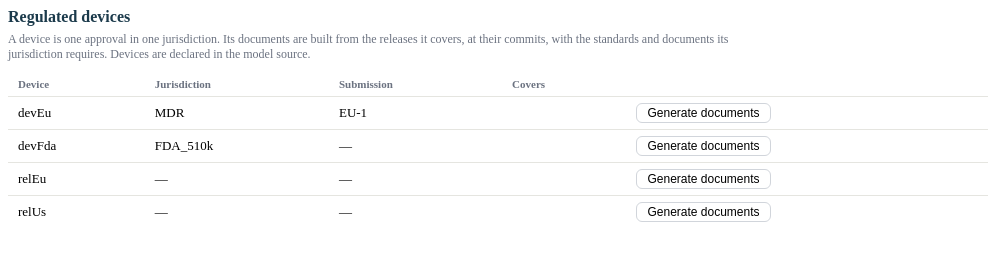
Test case: regulated devices › generates a device's documents and says what was written, or why not
What coordinates should you click on to do the following:
click the button with test id "generate-devEu"
I would click on:
 (704, 113)
Its box is x1=636 y1=103 x2=771 y2=123.
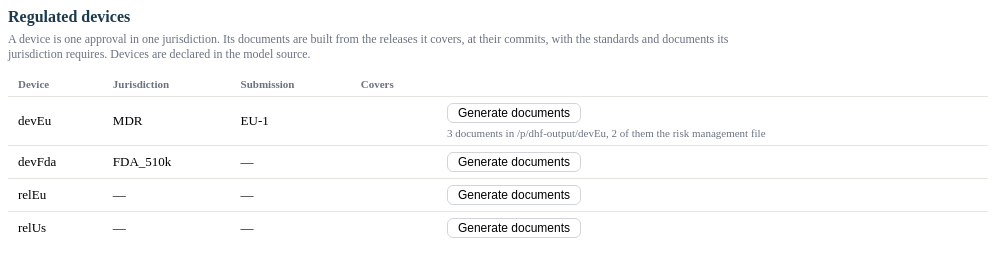
Now the text with test id "result-devEu" reads "3 documents in /p/dhf-output/devEu, 2 of them the risk management file", box x1=447 y1=127 x2=766 y2=139
What coordinates should you click on to do the following:
click the button with test id "generate-devFda"
I would click on:
 (514, 162)
Its box is x1=447 y1=152 x2=581 y2=172.
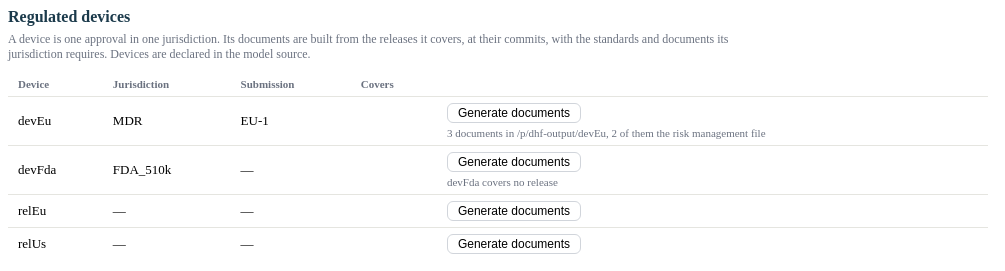
Now the text with test id "result-devFda" reads "devFda covers no release", box x1=447 y1=176 x2=558 y2=188
